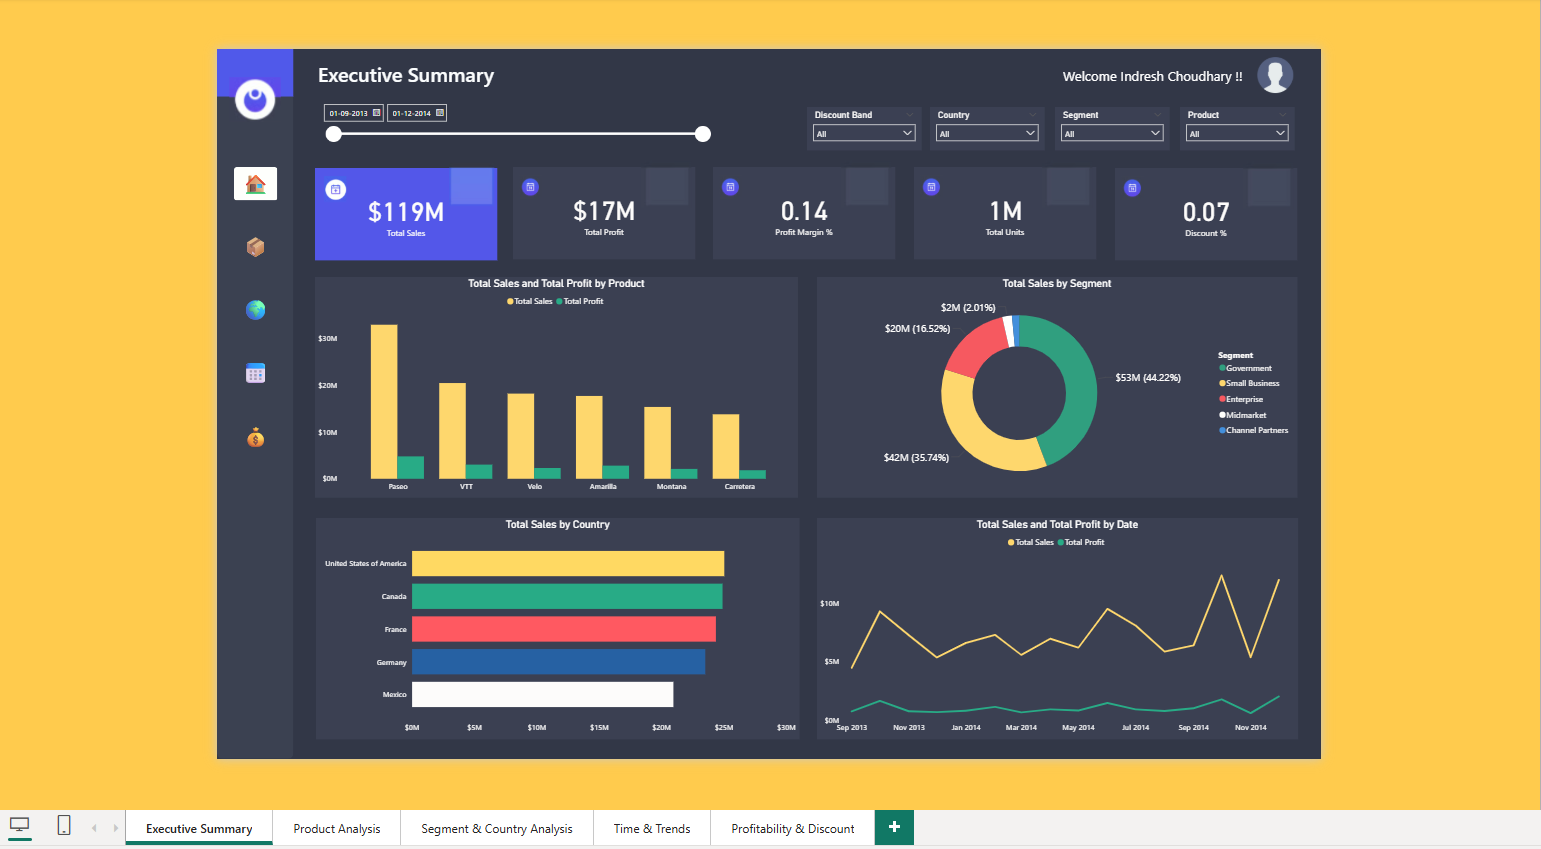

The dashboard page shown, as its layout file describes it:
{"tool":"powerbi","page":{"name":"Executive Summary","canvas":[1780,1145],"ordinal":0},"visuals":[{"type":"shape","box":[0,51.7,123.3,1093.3],"z":0},{"type":"slicer","fields":{"Values":["Product.Product"]},"box":[1553.4,93.9,185,70],"z":0,"group":"g7"},{"type":"card","fields":{"Values":["All Measures.Profit Margin %"]},"box":[800.4,190.8,293.9,149.1],"z":0,"group":"g3"},{"type":"card","fields":{"Values":["All Measures.Total Units"]},"box":[1124.8,190.9,293.9,149.1],"z":0,"group":"g4"},{"type":"card","fields":{"Values":["All Measures.Total Sales"]},"box":[158.1,191.4,293.9,149.1],"z":0,"group":"g1"},{"type":"card","fields":{"Values":["All Measures.Total Profit"]},"box":[477,191.4,293.9,149.1],"z":0,"group":"g2"},{"type":"card","fields":{"Values":["All Measures.Discount %"]},"box":[1448.3,192.3,293.9,149.1],"z":0,"group":"g5"},{"type":"shape","box":[0,0,123.3,76.7],"z":1000},{"type":"slicer","fields":{"Values":["Segment.Segment"]},"box":[1351.7,93.9,185,70],"z":1000,"group":"g7"},{"type":"image","box":[368.7,159.1,83.4,118.8],"z":1000,"group":"g1"},{"type":"image","box":[1002.6,174.1,91.7,86.5],"z":1000,"group":"g3"},{"type":"image","box":[1327,174.2,91.7,86.5],"z":1000,"group":"g4"},{"type":"image","box":[679.2,174.7,91.7,86.5],"z":1000,"group":"g2"},{"type":"image","box":[1650.5,175.6,91.7,86.5],"z":1000,"group":"g5"},{"type":"textbox","box":[158.3,13.3,370,68.3],"z":2000},{"type":"slicer","fields":{"Values":["Country.Country"]},"box":[1150,93.9,185,70],"z":2000,"group":"g7"},{"type":"image","box":[800.4,198.1,57.3,47.9],"z":2000,"group":"g3"},{"type":"image","box":[1124.8,198.2,57.3,47.9],"z":2000,"group":"g4"},{"type":"image","box":[167.5,198.7,45.9,52.1],"z":2000,"group":"g1"},{"type":"image","box":[477,198.7,57.3,47.9],"z":2000,"group":"g2"},{"type":"image","box":[1448.3,199.6,57.3,47.9],"z":2000,"group":"g5"},{"type":"image","box":[1671.3,8.8,71.7,68.3],"z":3000,"group":"g6"},{"type":"image","box":[13.3,40,96.7,81.7],"z":3000},{"type":"slicer","fields":{"Values":["Discount Band.Discount Band"]},"box":[951.7,93.9,185,70],"z":3000,"group":"g7"},{"type":"shape","box":[1345.2,20.9,328.3,46.7],"z":4000,"group":"g6"},{"type":"group","id":"g1","title":"Group 1","box":[158.1,159.1,293.9,181.4],"z":4000},{"type":"shape","box":[26.7,190,70,54],"z":5000},{"type":"group","id":"g2","title":"Group 2","box":[477,174.7,293.9,165.7],"z":6000},{"type":"group","id":"g3","title":"Group 2","box":[800.4,174.1,293.9,165.7],"z":7000},{"type":"shape","box":[26.7,292.8,70,54],"z":8000},{"type":"group","id":"g4","title":"Group 2","box":[1124.8,174.2,294.4,166.1],"z":9000},{"type":"shape","box":[26.7,395,70,54],"z":10000},{"type":"group","id":"g5","title":"Group 2","box":[1448.3,175.6,294.6,165.6],"z":11000},{"type":"group","id":"g6","title":"Group 3","box":[1345.2,8.8,397.8,68.3],"z":12000},{"type":"shape","box":[26.7,497.2,70,54],"z":13000},{"type":"shape","box":[26.7,599.4,70,54],"z":14000},{"type":"clusteredColumnChart","fields":{"Category":["Product.Product"],"Y":["All Measures.Total Sales","All Measures.Total Profit"]},"box":[158.6,368.5,778.8,355.8],"z":15000},{"type":"donutChart","fields":{"Category":["Segment.Segment"],"Y":["All Measures.Total Sales"]},"box":[968.2,368.5,774.6,355.8],"z":16000},{"type":"lineChart","fields":{"Y":["All Measures.Total Sales","All Measures.Total Profit"],"Category":["Calendar.Date"]},"box":[968.3,756.9,775.9,356.5],"z":17000},{"type":"barChart","fields":{"Y":["All Measures.Total Sales"],"Category":["Country.Country"]},"box":[159.2,756.9,779.6,356.5],"z":18000},{"type":"group","id":"g7","title":"Group 5","box":[951.7,93.9,786.7,70],"z":19000},{"type":"slicer","fields":{"Values":["Calendar.Date"]},"box":[160,78.3,645,96.7],"z":20000}]}

Visuals, with their boxes on the page's 1780x1145 design canvas (x1, y1, x2, y2). These are canvas units, not pixel positions in the 1541x849 screenshot, which may show the page scaled, cropped or inside an application window:
shape: [0,52,123,1145]
slicer - Product.Product: [1553,94,1738,164]
card - All Measures.Profit Margin %: [800,191,1094,340]
card - All Measures.Total Units: [1125,191,1419,340]
card - All Measures.Total Sales: [158,191,452,340]
card - All Measures.Total Profit: [477,191,771,340]
card - All Measures.Discount %: [1448,192,1742,341]
shape: [0,0,123,77]
slicer - Segment.Segment: [1352,94,1537,164]
image: [369,159,452,278]
image: [1003,174,1094,261]
image: [1327,174,1419,261]
image: [679,175,771,261]
image: [1650,176,1742,262]
textbox: [158,13,528,82]
slicer - Country.Country: [1150,94,1335,164]
image: [800,198,858,246]
image: [1125,198,1182,246]
image: [168,199,213,251]
image: [477,199,534,247]
image: [1448,200,1506,248]
image: [1671,9,1743,77]
image: [13,40,110,122]
slicer - Discount Band.Discount Band: [952,94,1137,164]
shape: [1345,21,1674,68]
"Group 1" group: [158,159,452,340]
shape: [27,190,97,244]
"Group 2" group: [477,175,771,340]
"Group 2" group: [800,174,1094,340]
shape: [27,293,97,347]
"Group 2" group: [1125,174,1419,340]
shape: [27,395,97,449]
"Group 2" group: [1448,176,1743,341]
"Group 3" group: [1345,9,1743,77]
shape: [27,497,97,551]
shape: [27,599,97,653]
clusteredColumnChart - Product.Product x All Measures.Total Sales: [159,368,937,724]
donutChart - Segment.Segment x All Measures.Total Sales: [968,368,1743,724]
lineChart - All Measures.Total Sales x All Measures.Total Profit: [968,757,1744,1113]
barChart - All Measures.Total Sales x Country.Country: [159,757,939,1113]
"Group 5" group: [952,94,1738,164]
slicer - Calendar.Date: [160,78,805,175]
